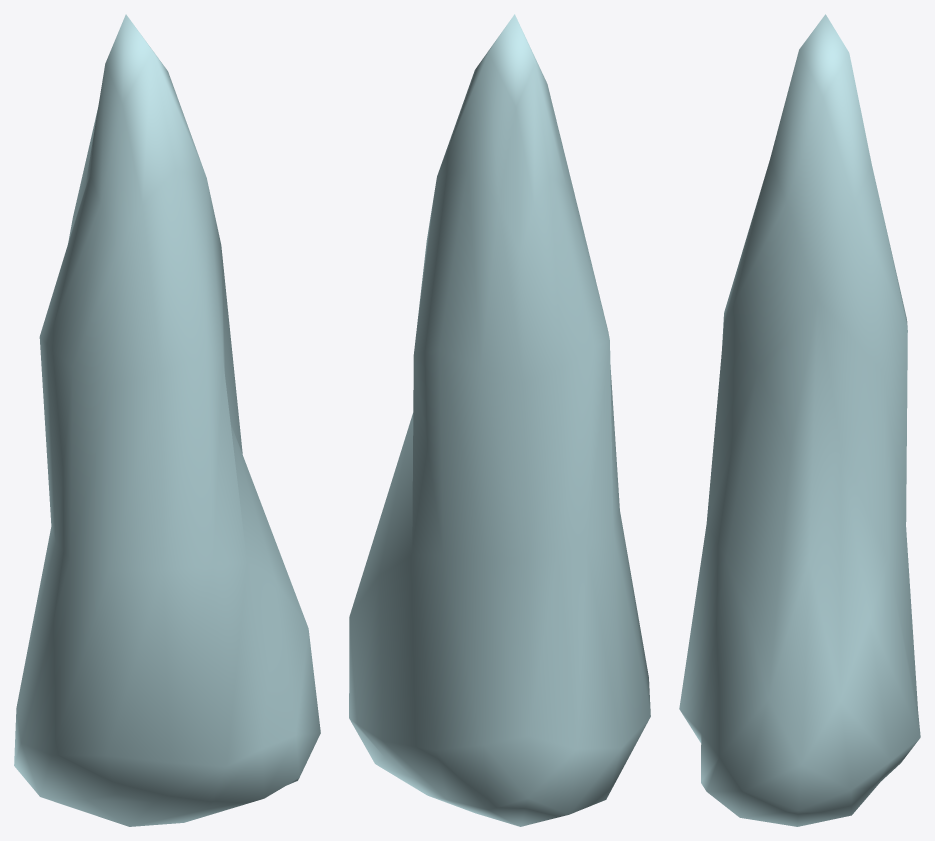
File: blender env assets small ice spike 1.fbx
The picture shows the model from 3 angles, left to right: view 1: azimuth 30°, elevation 25°; view 2: azimuth 150°, elevation 25°; view 3: azimuth 270°, elevation 25°; orthographic projection. The views are drawn at different scales.
Parts seen in each view (by area): view 1: rock.039; view 2: rock.039; view 3: rock.039.
Boxes of the visible parts, box(x1,y1,x2,y2) form: rock.039: box(14, 14, 320, 826); rock.039: box(349, 14, 650, 826); rock.039: box(679, 14, 920, 826).
Size of the model in its own units: 78.88 by 218 by 61.56.
